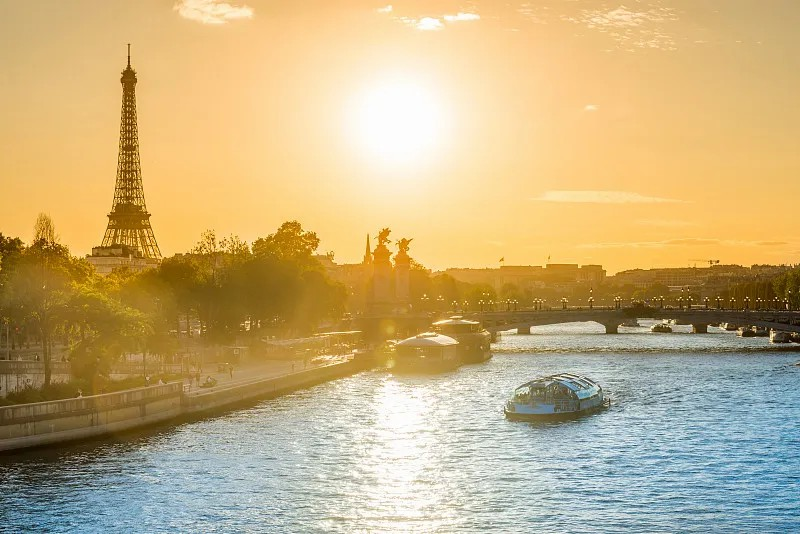Eiffel: (100, 42, 164, 258)
